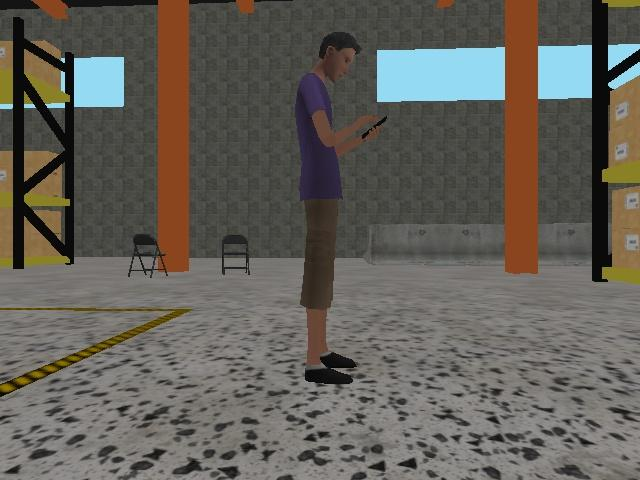chair: (127, 233, 170, 279), (220, 234, 251, 277)
person: (292, 29, 384, 387)
